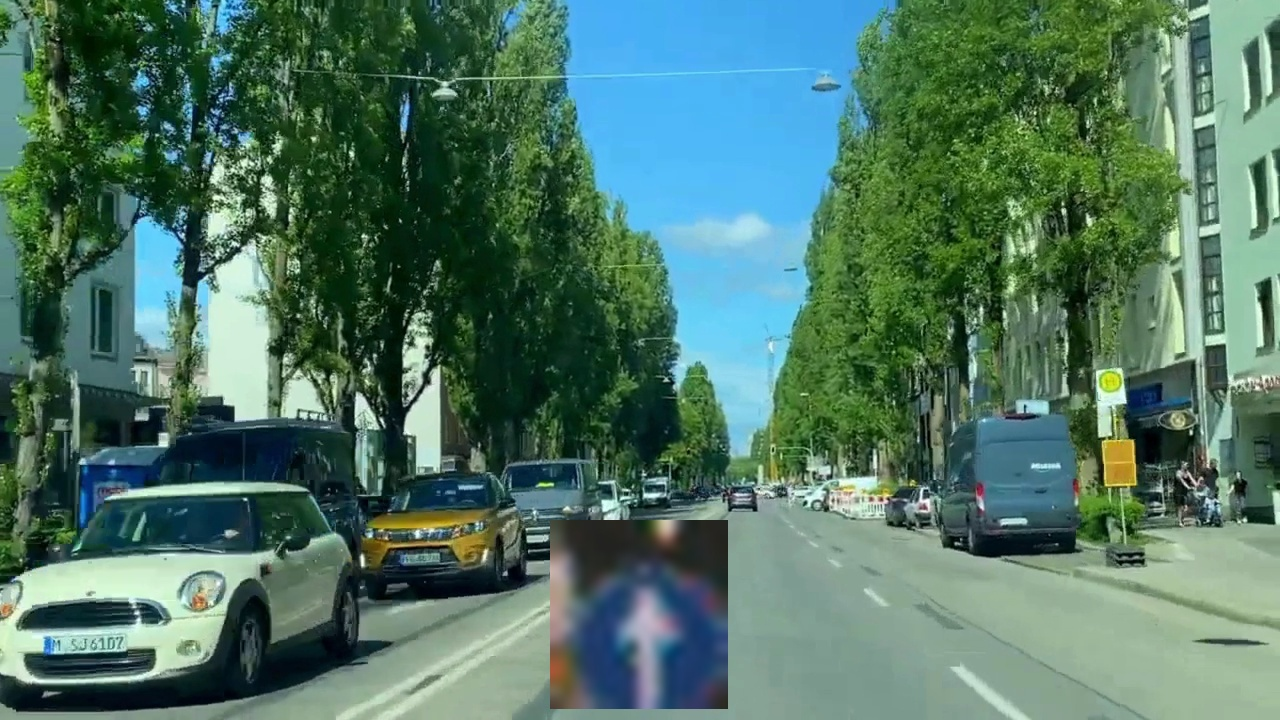Ahead only: (550, 520, 728, 709)
